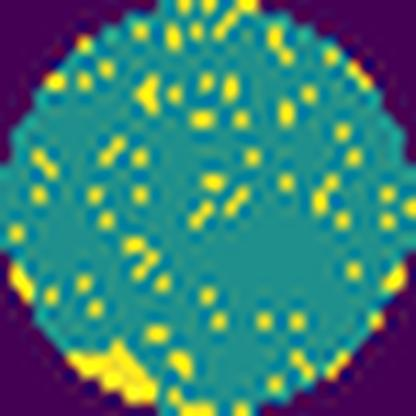Edge-Loc: (63, 334, 159, 406), (170, 389, 220, 416)
